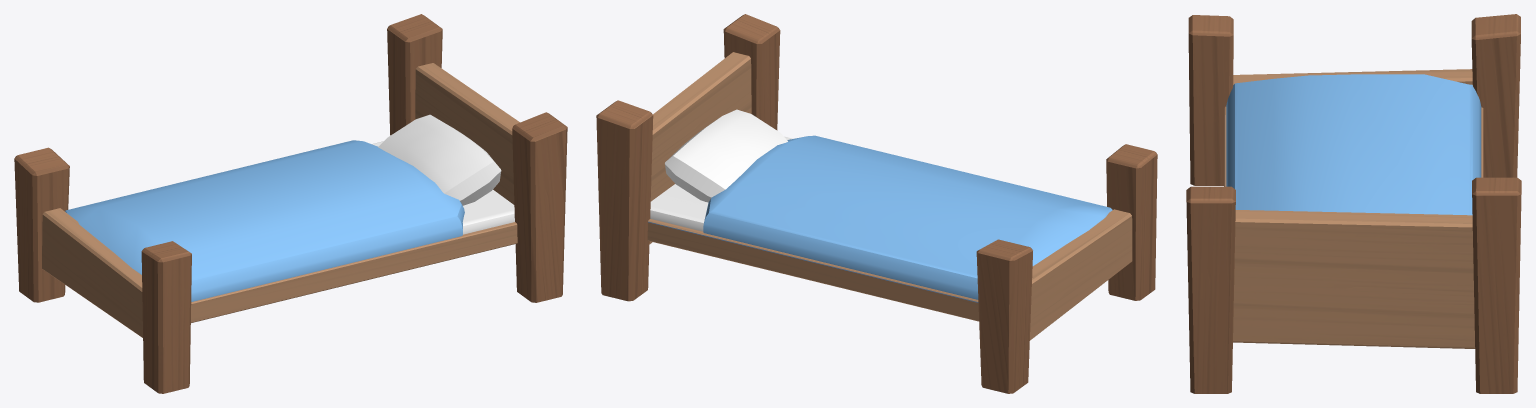
Rendered from Bed.fbx.
3 views of the same model, side by side, from view 1: azimuth 30°, elevation 25°; view 2: azimuth 150°, elevation 25°; view 3: azimuth 270°, elevation 25° (orthographic). The views are drawn at different scales.
Visible parts, largest first — view 1: Bed; view 2: Bed; view 3: Bed.
Part boxes in pixels (bbox=[...]): Bed: bbox=[14, 14, 567, 393]; Bed: bbox=[596, 14, 1157, 393]; Bed: bbox=[1186, 14, 1521, 393].
Size of the model in its own units: 314 by 130 by 194.
1 material, 1 textured.
